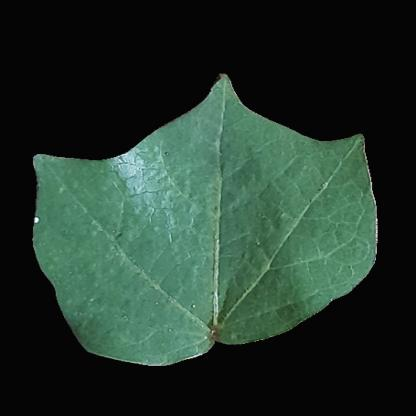healthy: (110, 169, 321, 311)
